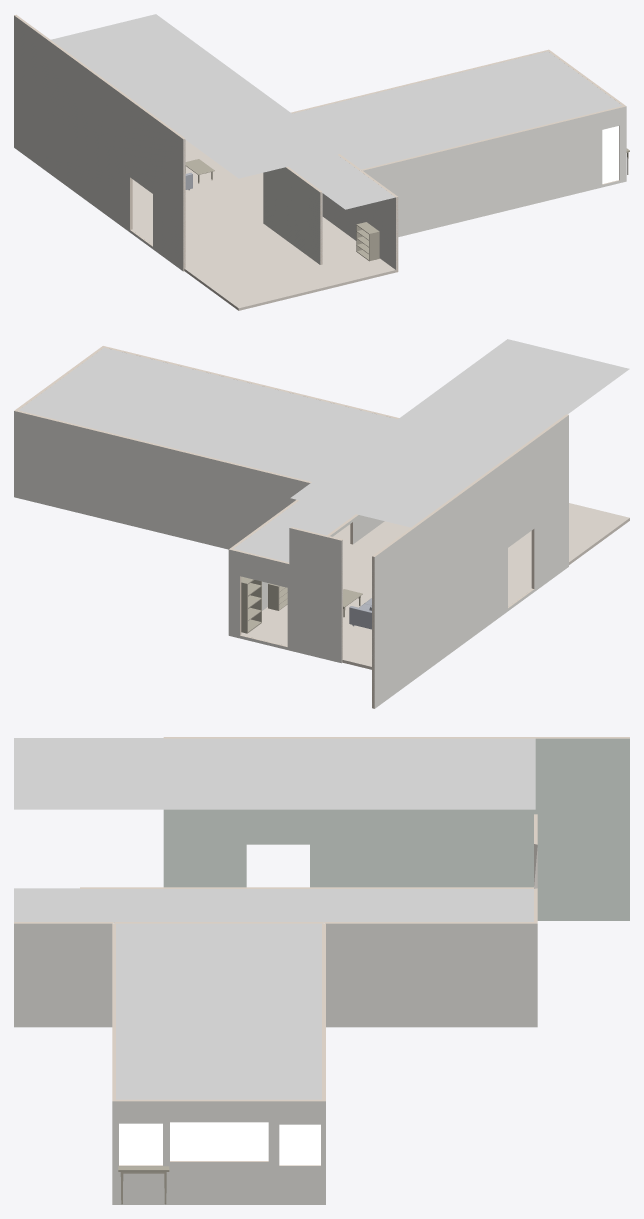
The model's file is Hall_room200.glb.
The picture shows the model from 3 angles, top to bottom: view 1: azimuth 30°, elevation 25°; view 2: azimuth 150°, elevation 25°; view 3: azimuth 270°, elevation 25°; orthographic projection. The views are drawn at different scales.
Visible parts, largest first — view 1: Wall_4, Ceiling_Living_Room_1, Wall_6, Floor_Living_Room_1, Ceiling_Office, Ceiling_Living_Room_2, Floor_Other, Wall_0, Ceiling_Other, Wall_2, Wall_1, Door_0 (+2 smaller); view 2: Wall_4, Ceiling_Living_Room_1, Wall_8, Ceiling_Office, Ceiling_Living_Room_2, Wall_9, Floor_Living_Room_1, Floor_Other, Ceiling_Other, Wall_3, storage_shelf_0, Wall_6 (+2 smaller); view 3: Wall_4, Ceiling_Living_Room_1, Wall_7, Ceiling_Office, Ceiling_Living_Room_2, Ceiling_Other, Wall_5, Wall_2, Window_0, Window_1, Window_2, Wall_0 (+2 smaller).
Boxes of the visible parts, x1,y1,x2,y2 form: Wall_4: (14, 14, 185, 271); Ceiling_Living_Room_1: (51, 14, 344, 178); Wall_6: (361, 106, 626, 236); Floor_Living_Room_1: (131, 166, 345, 310); Ceiling_Office: (414, 51, 622, 138); Ceiling_Living_Room_2: (292, 84, 488, 169); Floor_Other: (185, 140, 396, 284); Wall_0: (263, 166, 322, 264); Ceiling_Other: (288, 154, 395, 209); Wall_2: (359, 170, 398, 272); Wall_1: (322, 154, 360, 240); Door_0: (602, 126, 619, 183); Wall_4: (372, 414, 568, 708); Ceiling_Living_Room_1: (290, 339, 629, 527); Wall_8: (14, 410, 311, 549); Ceiling_Office: (19, 347, 257, 447); Ceiling_Living_Room_2: (172, 385, 397, 481); Wall_9: (289, 527, 342, 663); Floor_Living_Room_1: (342, 503, 629, 669); Floor_Other: (241, 521, 410, 646); Ceiling_Other: (233, 500, 355, 562); Wall_3: (228, 549, 289, 650); storage_shelf_0: (241, 576, 261, 633); Wall_6: (103, 346, 399, 419); Wall_4: (163, 737, 629, 920); Ceiling_Living_Room_1: (14, 738, 535, 809); Wall_7: (324, 922, 537, 1027); Ceiling_Office: (116, 1009, 321, 1099); Ceiling_Living_Room_2: (114, 923, 323, 1009); Ceiling_Other: (14, 888, 533, 922); Wall_5: (112, 1099, 325, 1204); Wall_2: (14, 922, 113, 1027); Window_0: (170, 1122, 268, 1160); Window_1: (119, 1123, 162, 1165); Window_2: (279, 1124, 320, 1165); Wall_0: (80, 887, 533, 888).
Bounding box in the file's own units: 17.67 × 5.19 × 15.9.
Materials: 18 (4 with a texture image).
